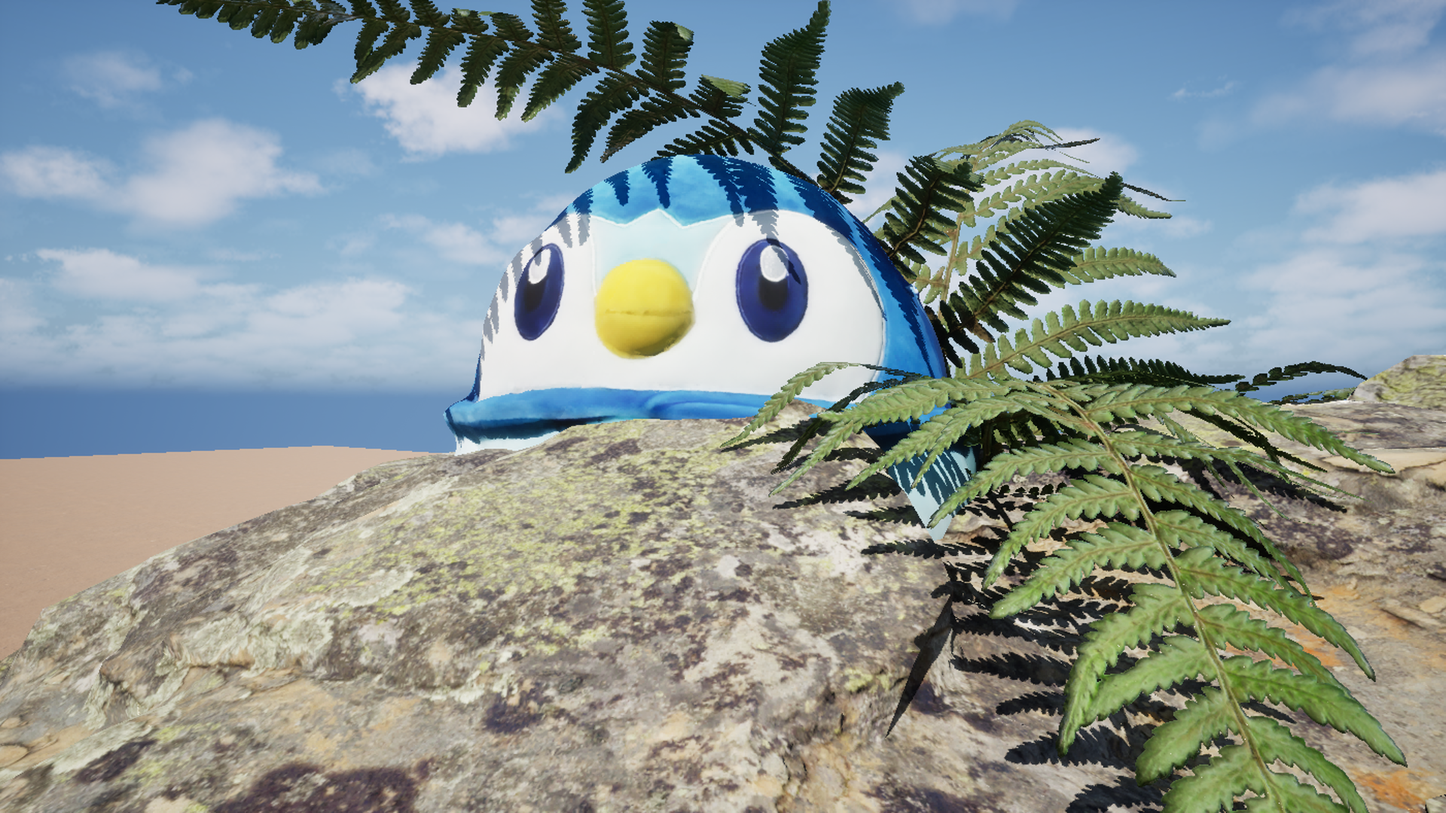Piplup: (280, 0, 1106, 813)
